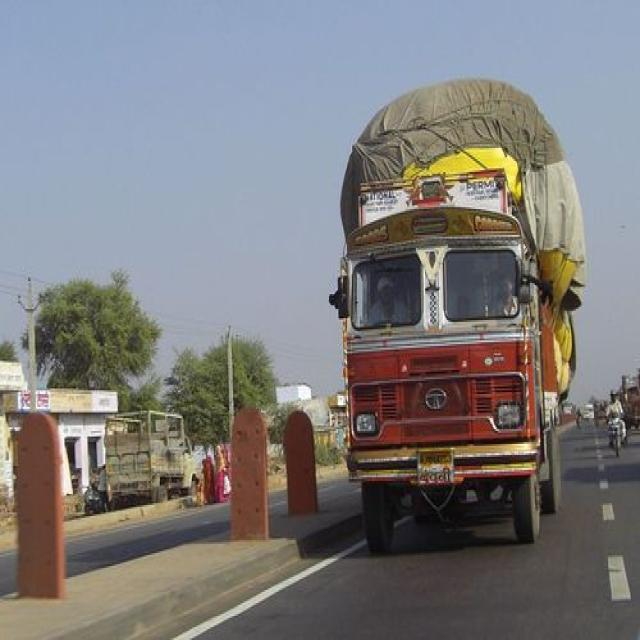normal_truck: (334, 163, 574, 552)
overloaded_truck: (340, 79, 588, 324)
